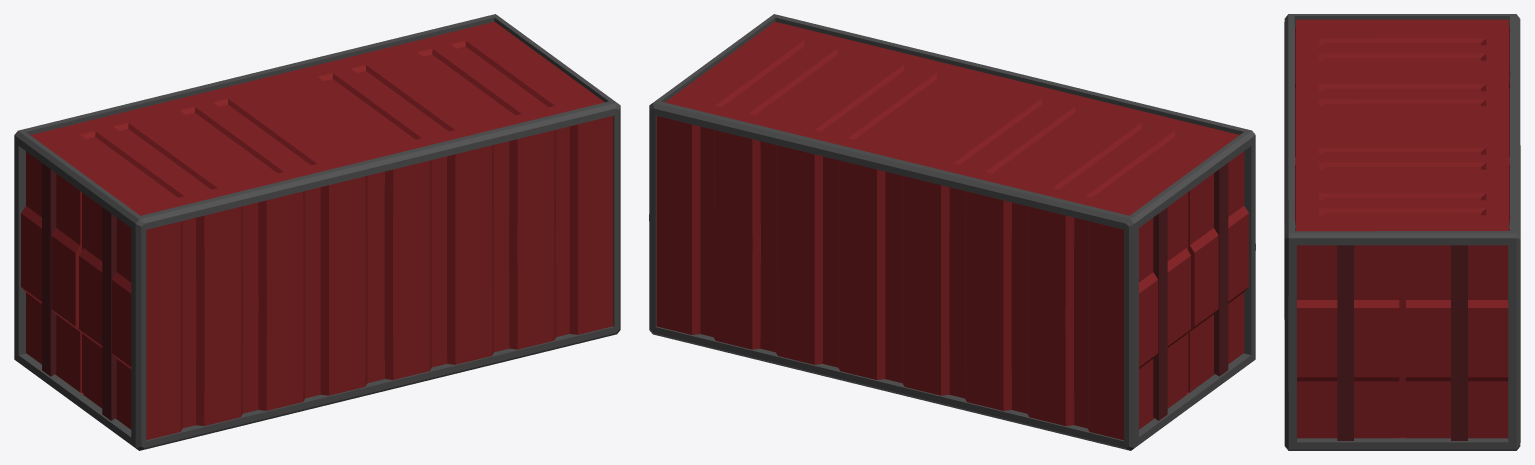
Rendered from container_red.fbx.
3 views of the same model, side by side, from view 1: azimuth 30°, elevation 25°; view 2: azimuth 150°, elevation 25°; view 3: azimuth 270°, elevation 25° (orthographic). The views are drawn at different scales.
Parts seen in each view (by area): view 1: Container_Red; view 2: Container_Red; view 3: Container_Red.
Boxes of the visible parts, x1,y1,x2,y2 form: Container_Red: (14,14,620,450); Container_Red: (649,14,1255,450); Container_Red: (1284,14,1520,450).
Size of the model in its own units: 1 by 0.4561 by 0.4484.
